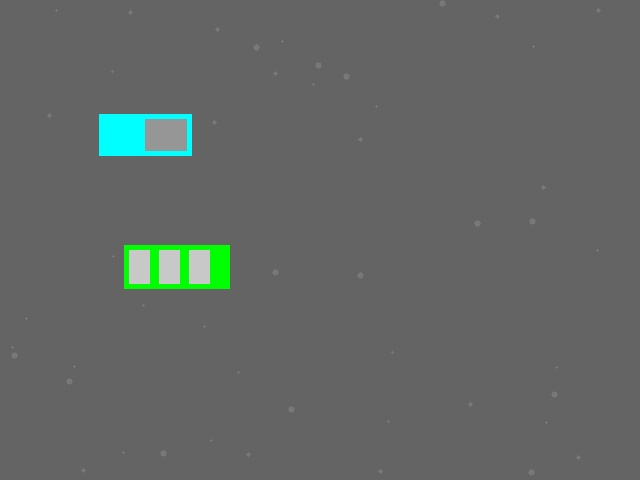bus: (124, 245, 229, 288)
truck: (99, 114, 191, 155)
